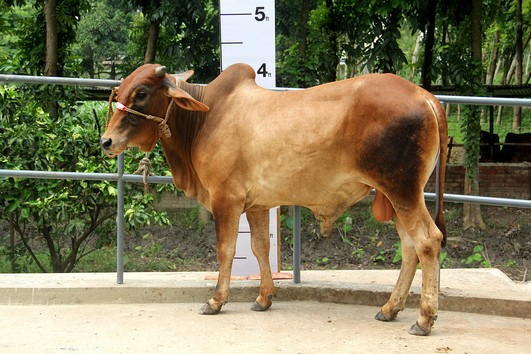cow: (97, 56, 456, 339)
